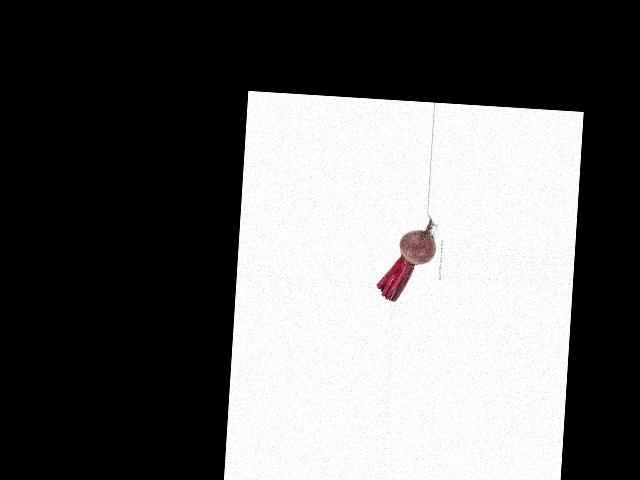beet: (376, 212, 438, 304)
